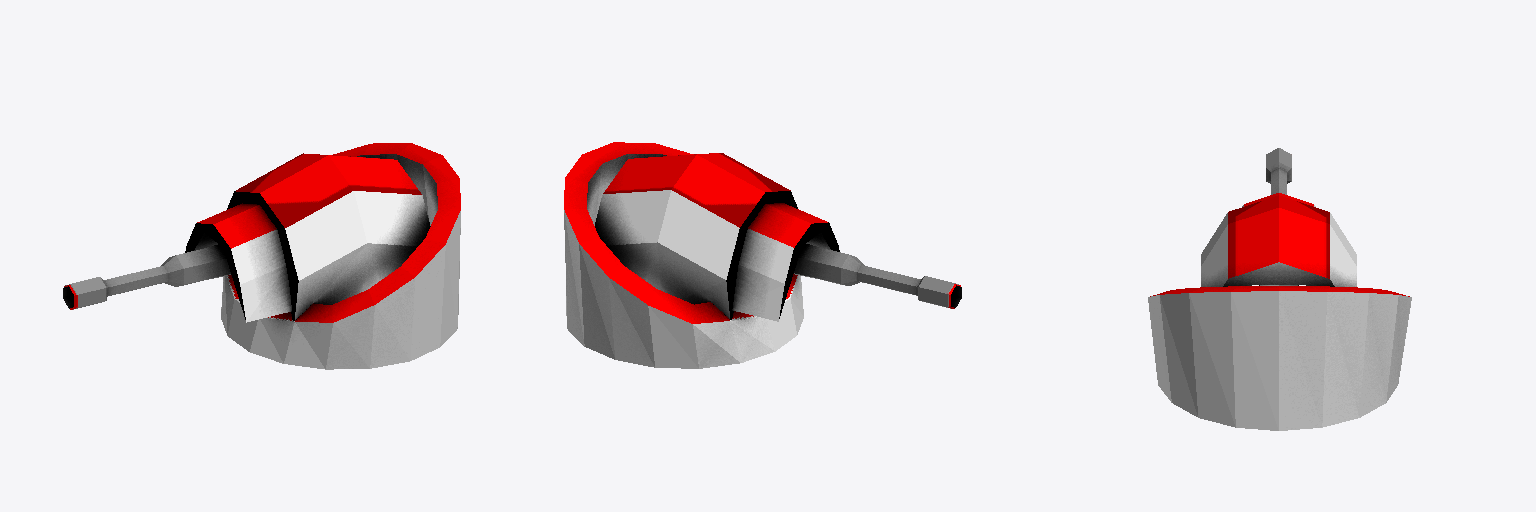
The picture shows the model from 3 angles: view 1: azimuth 30°, elevation 25°; view 2: azimuth 150°, elevation 25°; view 3: azimuth 270°, elevation 25°; orthographic projection.
Parts seen in each view (by area): view 1: Cylinder.004; view 2: Cylinder.004; view 3: Cylinder.004.
Part boxes in pixels (bbox=[...]): Cylinder.004: bbox=[63, 143, 460, 369]; Cylinder.004: bbox=[564, 142, 961, 368]; Cylinder.004: bbox=[1148, 148, 1411, 430].
Bounding box in the file's own units: 8.6 × 3.66 × 5.25.
Materials: 1 (1 with a texture image).